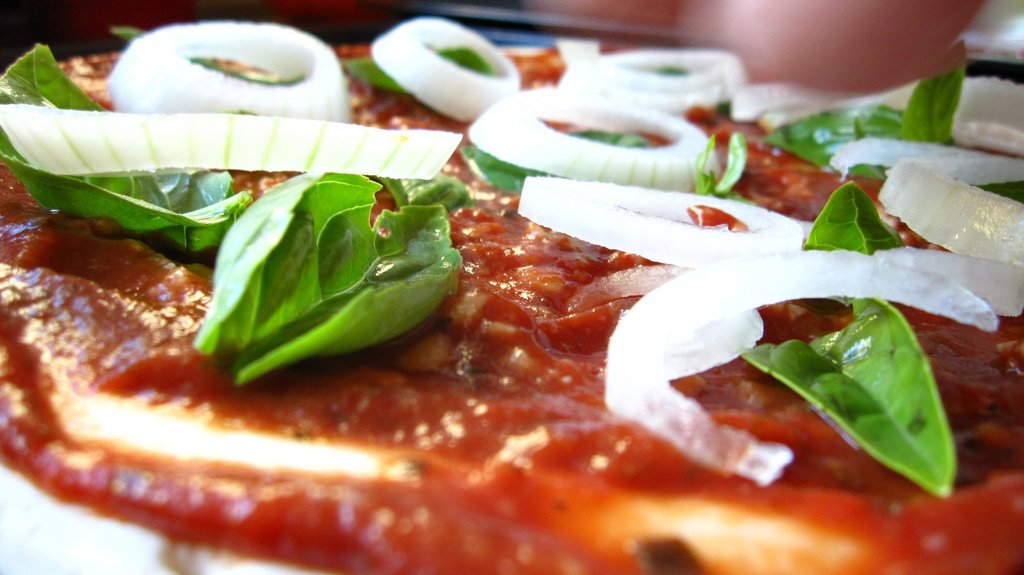Pizza: (0, 14, 1023, 574)
